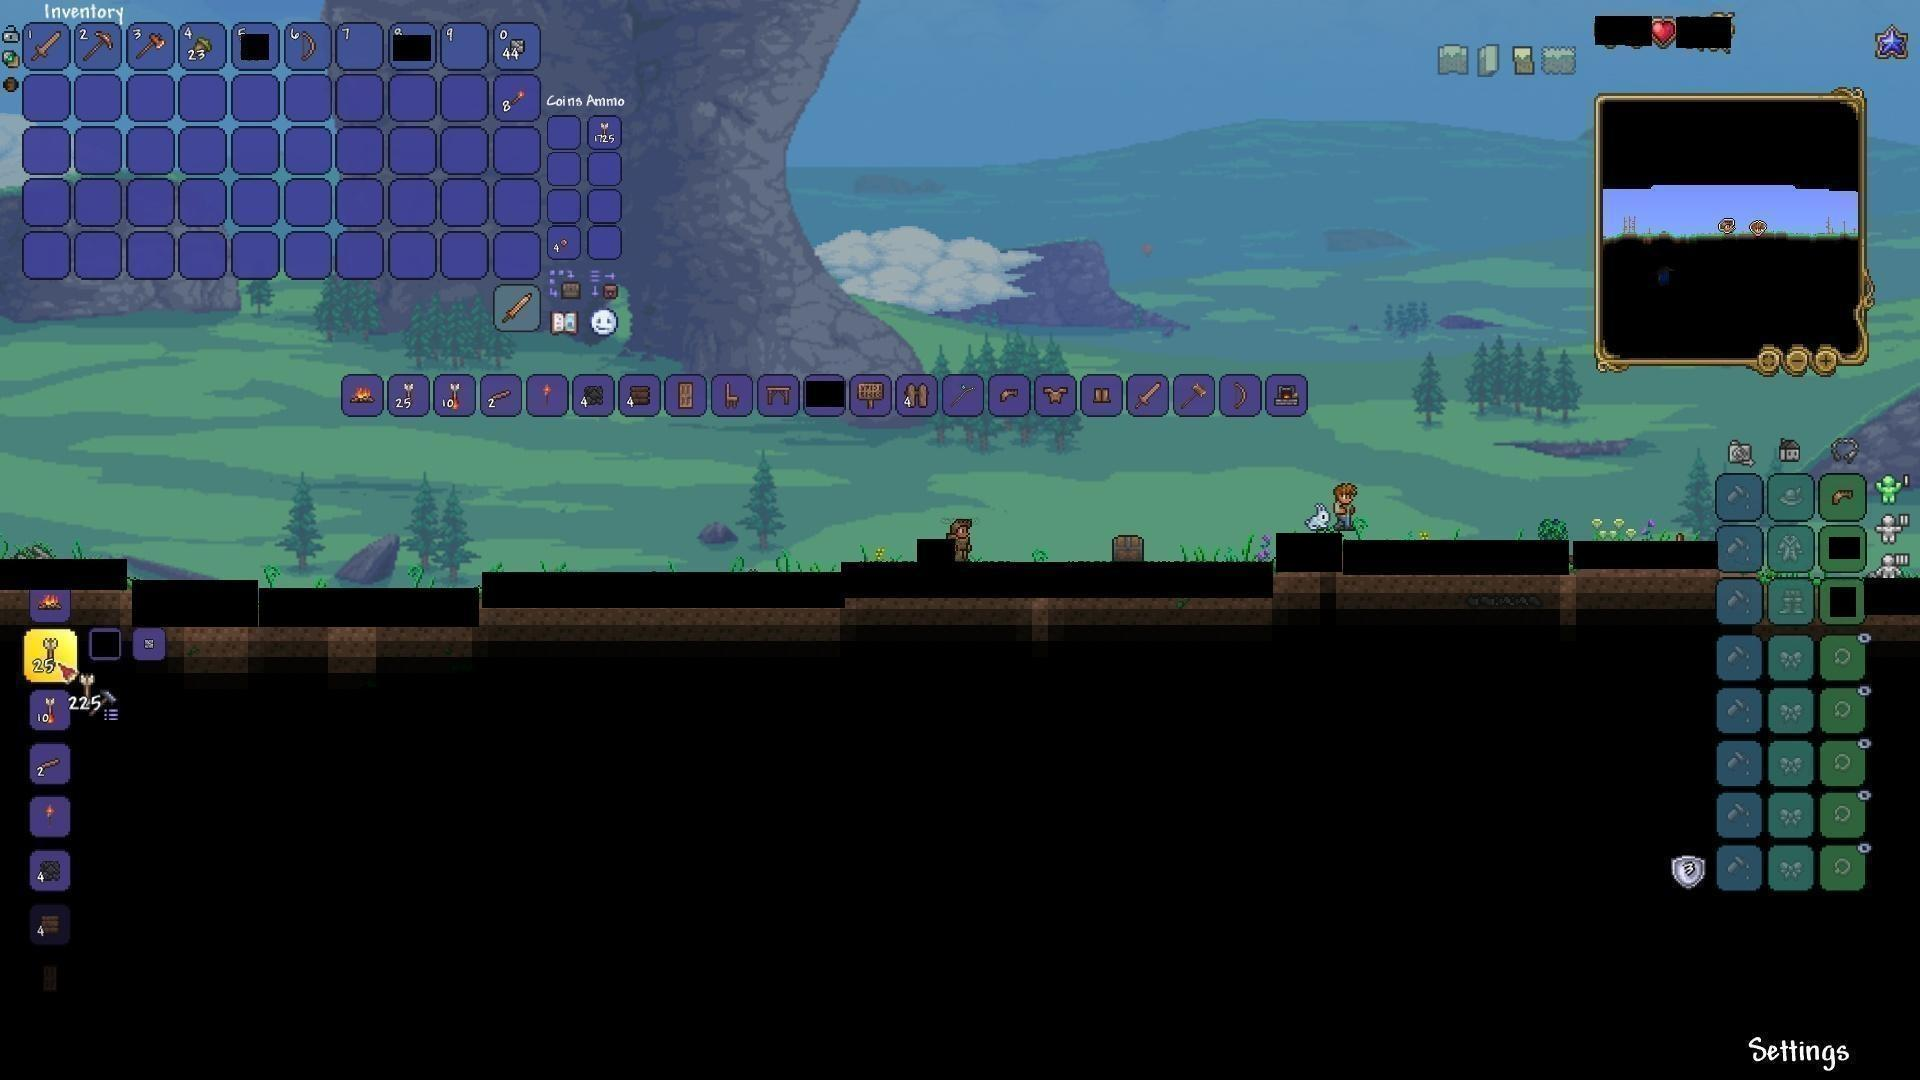breastplate: (1040, 386, 1069, 407)
heart: (1648, 17, 1676, 47)
helmet: (1828, 483, 1859, 512), (994, 382, 1025, 410)
legs: (1091, 381, 1116, 409)
